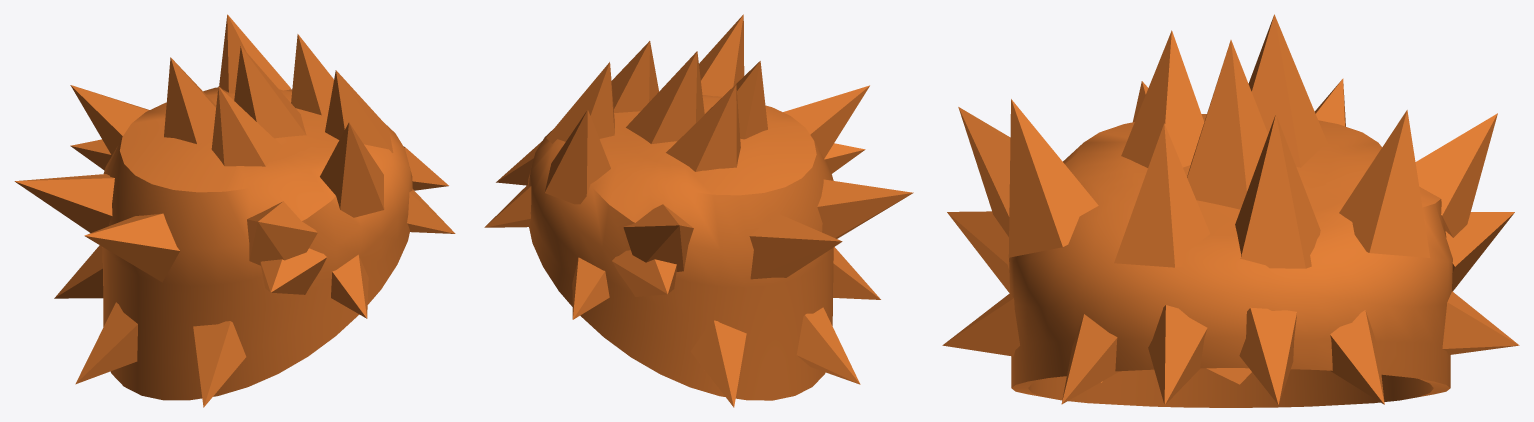
File: acc_hair_spiky.glb
3 views of the same model, side by side, from view 1: azimuth 30°, elevation 25°; view 2: azimuth 150°, elevation 25°; view 3: azimuth 270°, elevation 25° (orthographic). The views are drawn at different scales.
Visible parts, largest first — view 1: Hair; view 2: Hair; view 3: Hair.
Boxes of the visible parts, x1=… form: Hair: x1=14, y1=14, x2=455, y2=407; Hair: x1=484, y1=14, x2=913, y2=407; Hair: x1=942, y1=14, x2=1519, y2=407.
Size of the model in its own units: 0.6633 by 0.527 by 0.6235.
